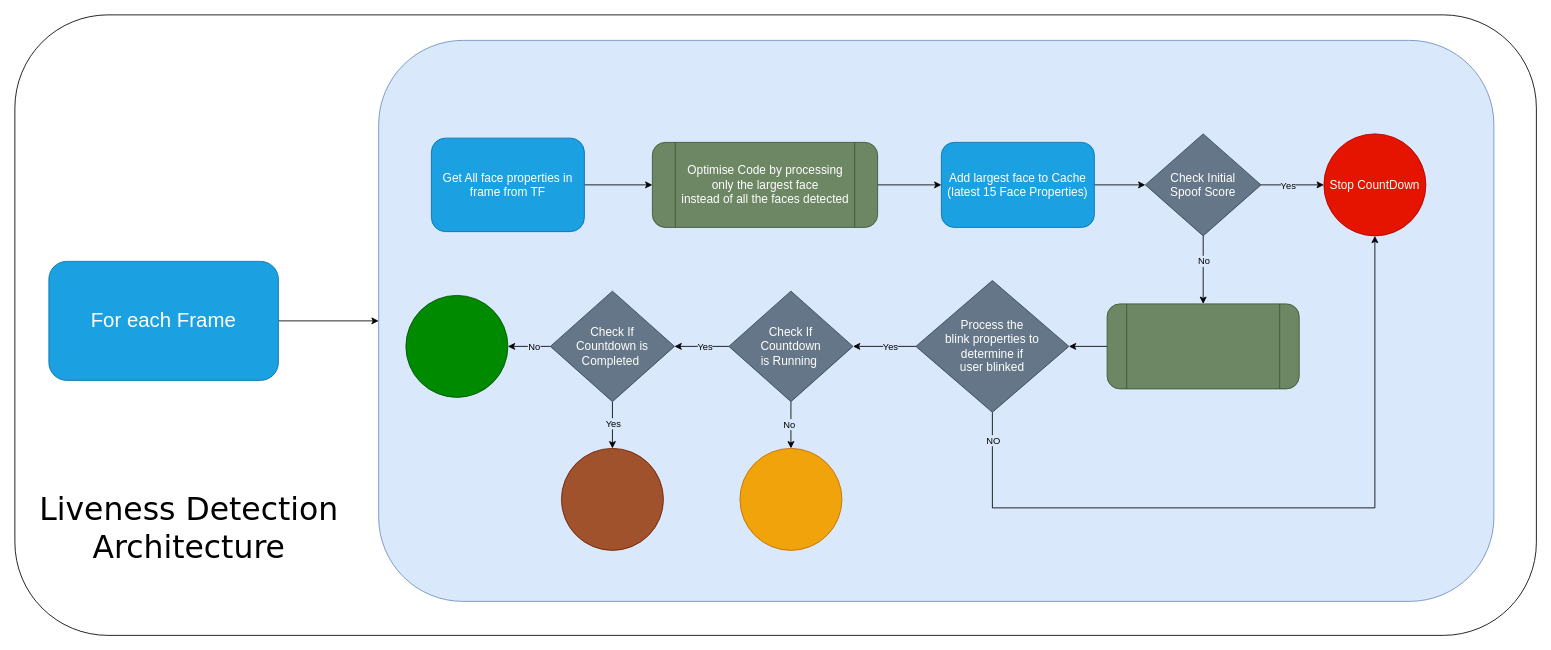
The diagram is 1551 pixels wide and 650 high, and some of its shapes have lost their labels. Each missing label, with the centre of its shape:
"Checkin" goes at point (456, 346).
"Continue" goes at point (612, 499).
"extract blink properties from current and cached Face Properties" goes at point (1202, 346).
"Start CountDown for 5 sec" goes at point (790, 499).
